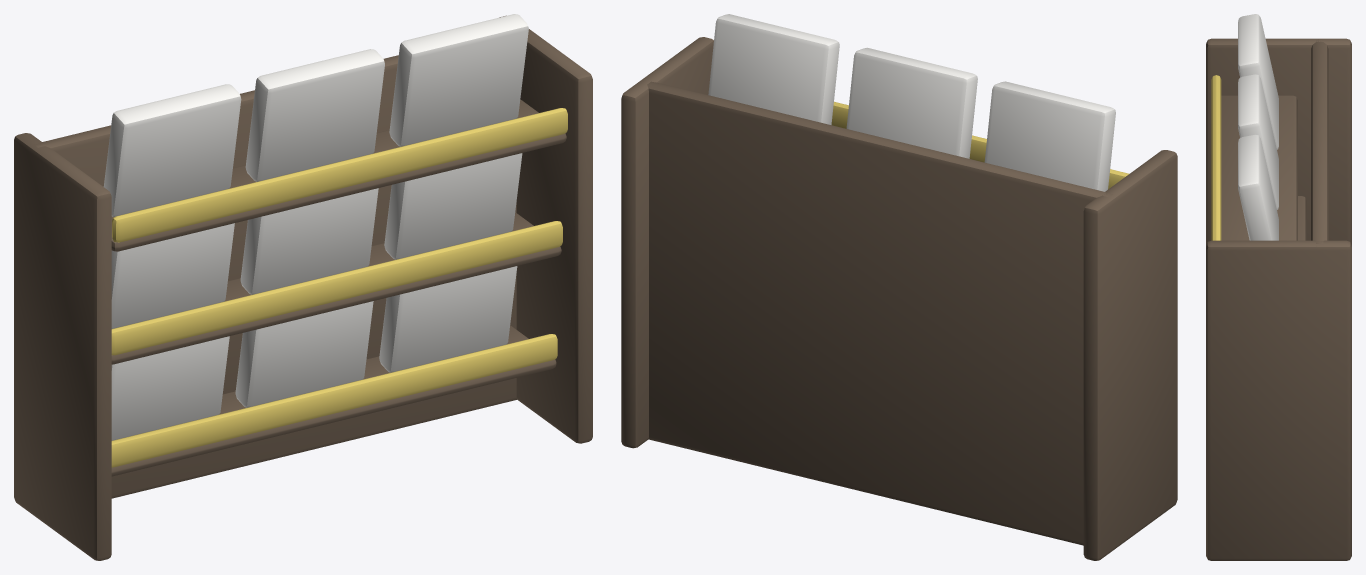
The model's file is impulse_rack.glb.
The picture shows the model from 3 angles, left to right: view 1: azimuth 30°, elevation 25°; view 2: azimuth 150°, elevation 25°; view 3: azimuth 270°, elevation 25°; orthographic projection. The views are drawn at different scales.
Parts seen in each view (by area): view 1: impulse_rack; view 2: impulse_rack; view 3: impulse_rack.
Part boxes in pixels (left/top/right/bottom): impulse_rack: left=14, top=14, right=592, bottom=560; impulse_rack: left=621, top=14, right=1177, bottom=560; impulse_rack: left=1206, top=14, right=1351, bottom=560.
Size of the model in its own units: 0.34 by 0.2732 by 0.1.
